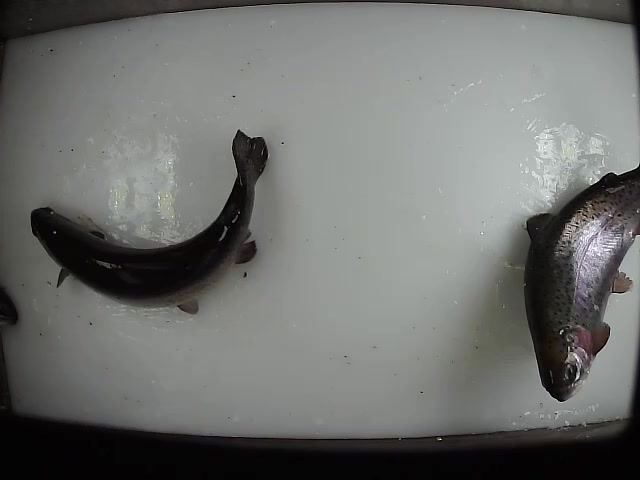fish: (25, 128, 273, 319), (517, 160, 640, 408)
